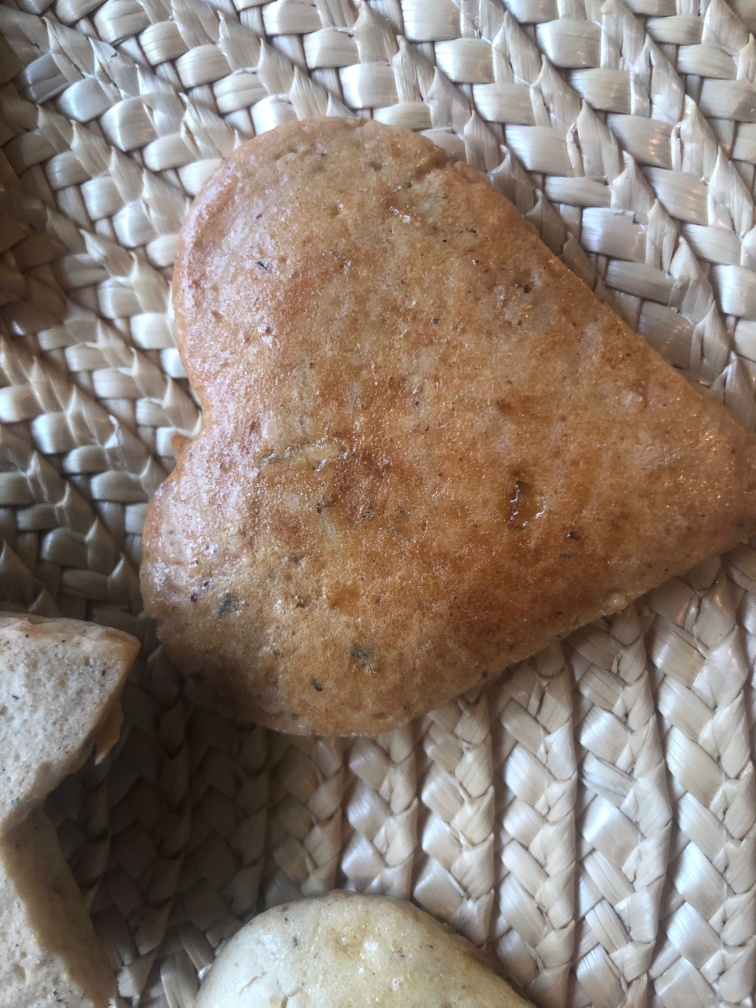heart: (122, 108, 753, 729)
star: (1, 576, 142, 1007)
